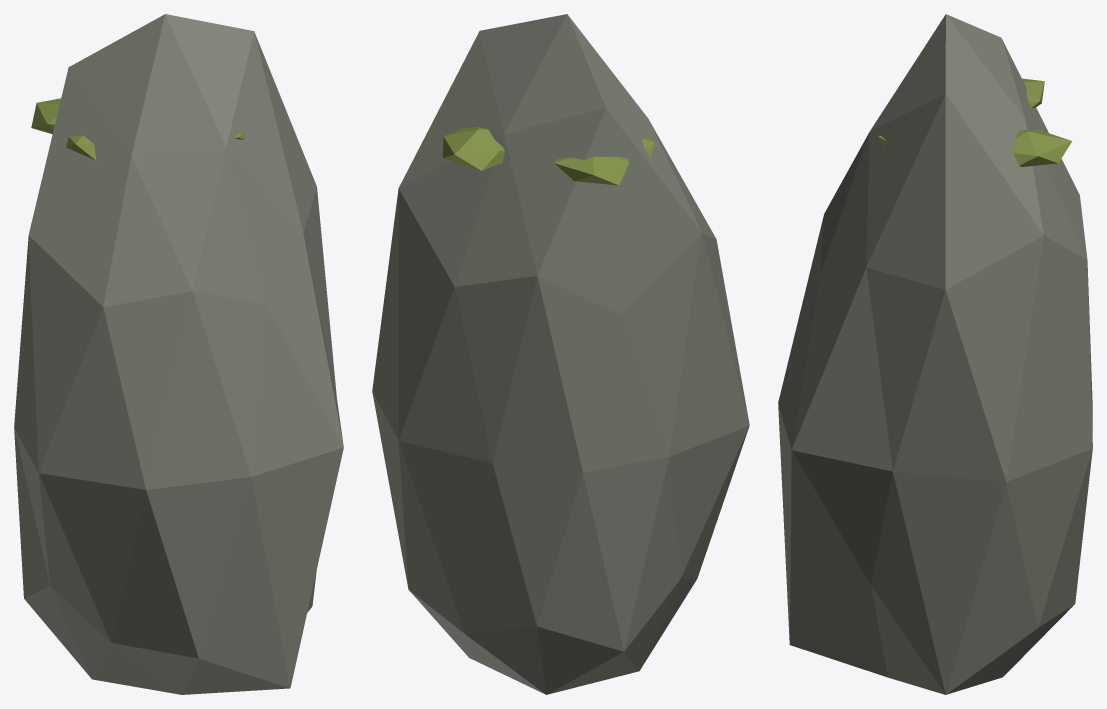
Rendered from BP_Moss_Rock_4.fbx.
The picture shows the model from 3 angles, left to right: view 1: azimuth 30°, elevation 25°; view 2: azimuth 150°, elevation 25°; view 3: azimuth 270°, elevation 25°; orthographic projection. The views are drawn at different scales.
Parts seen in each view (by area): view 1: BP_Moss_Rock_4; view 2: BP_Moss_Rock_4; view 3: BP_Moss_Rock_4.
Boxes of the visible parts, x1=… form: BP_Moss_Rock_4: x1=14, y1=14, x2=343, y2=694; BP_Moss_Rock_4: x1=372, y1=14, x2=749, y2=694; BP_Moss_Rock_4: x1=778, y1=14, x2=1092, y2=694.
Bounding box in the file's own units: 212 × 408 × 185.
